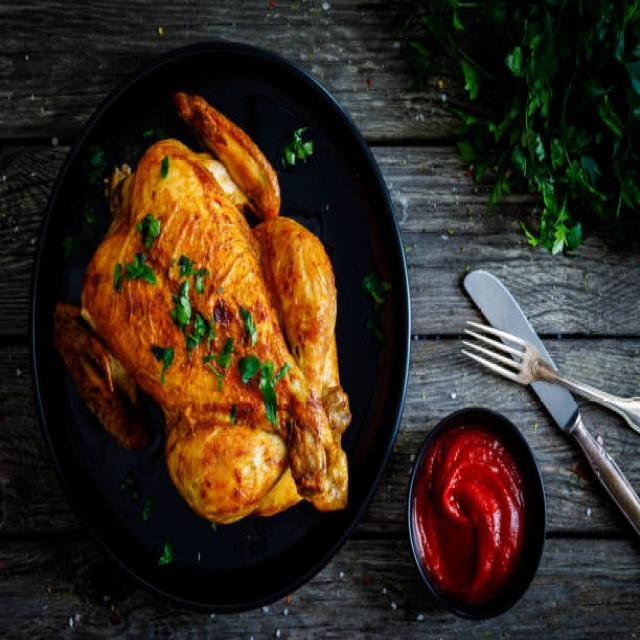Frango: (58, 90, 354, 530)
